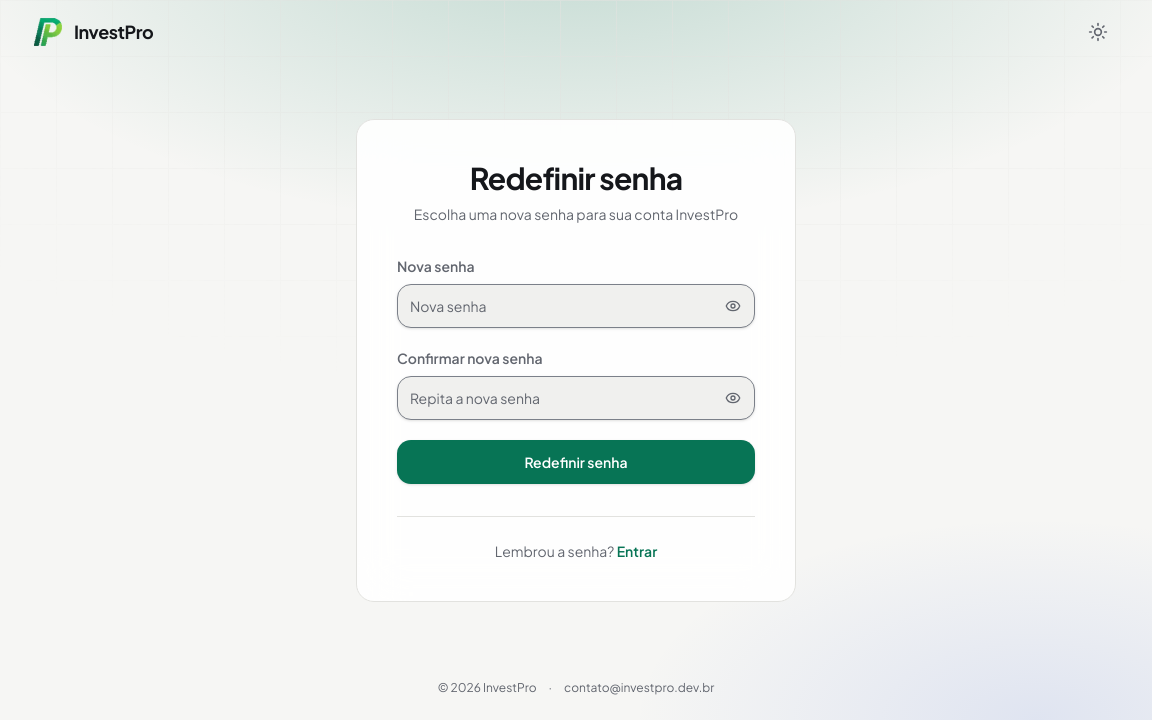
ResetPassword › 400 INVALID_RESET_TOKEN mostra a mensagem única de link inválido, sem vazar o texto do servidor
This screenshot has width=1152, height=720.
Type "NovaSenha#2026" into the password field labelled "Nova senha" at (576, 306), box [397,284,755,328]
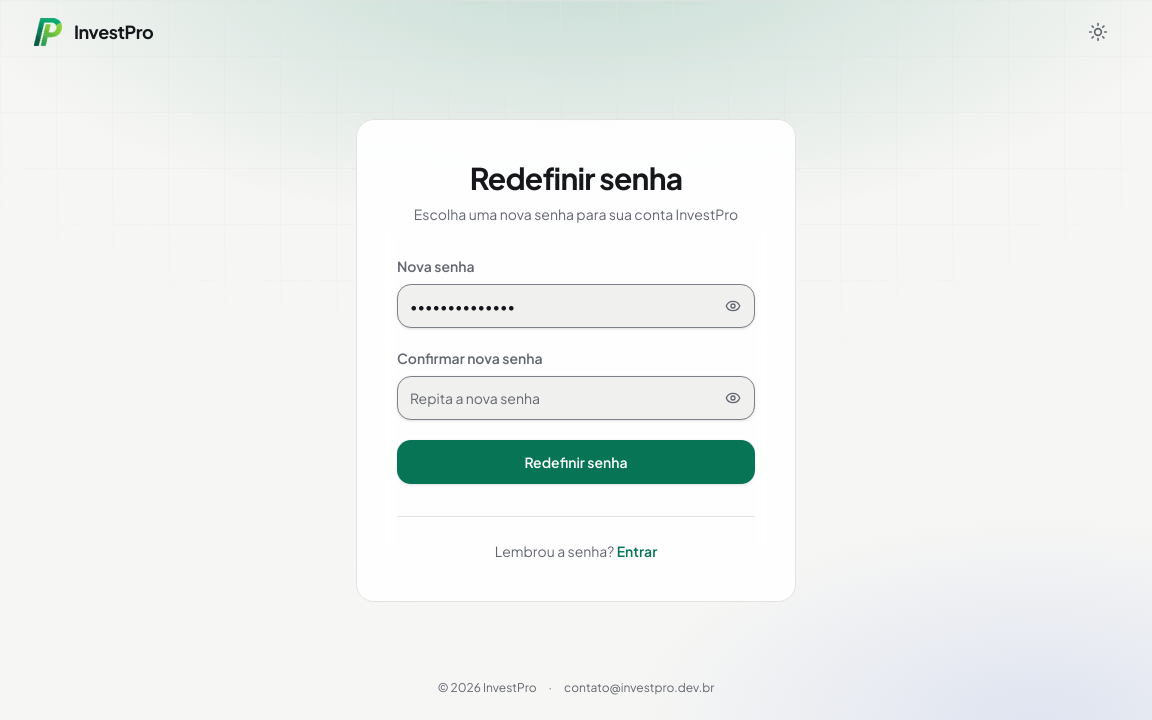
Type "NovaSenha#2026" into the password field labelled "Confirmar nova senha" at (576, 398), box [397,376,755,420]
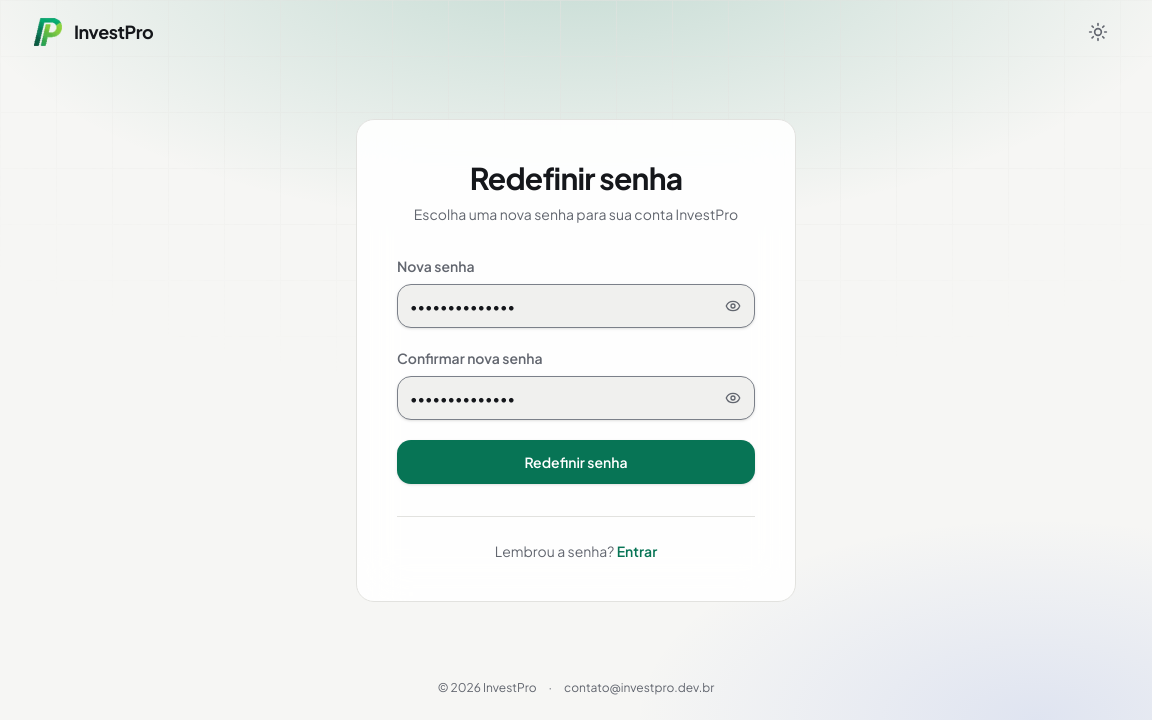
Click the button "Redefinir senha" at (576, 462), box [397,440,755,484]
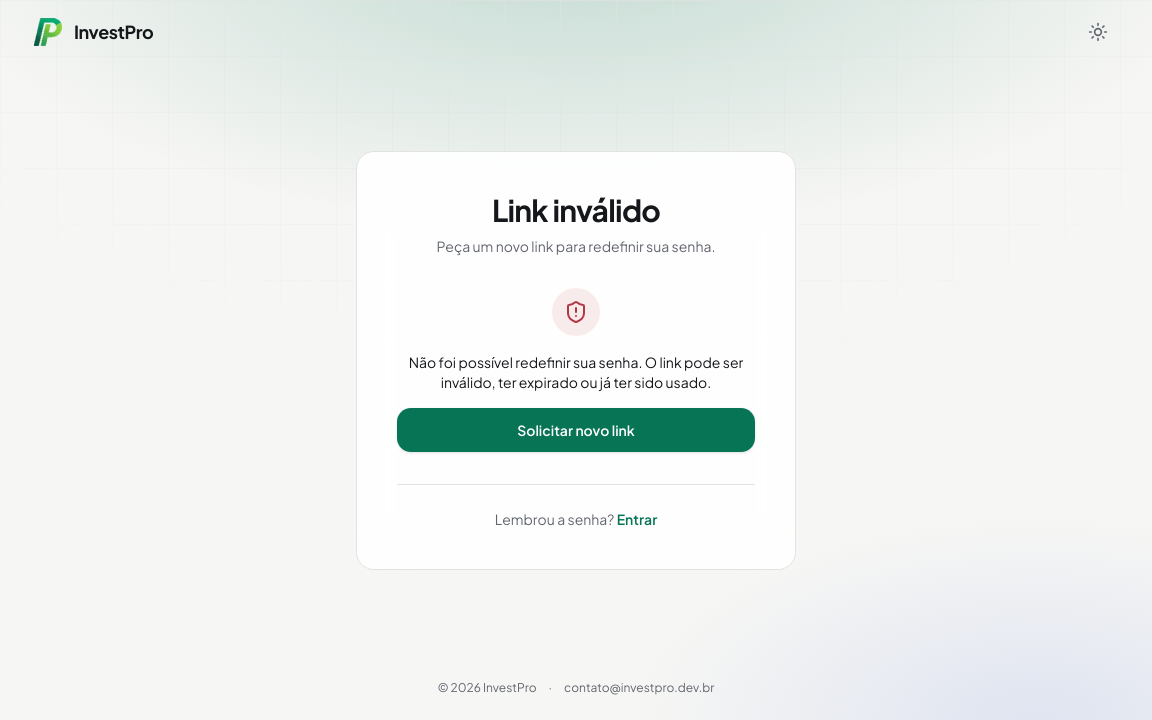
Expected: the text "O link pode ser inválido, ter expirado ou já ter sido usado" is shown, [409,352,743,390]
